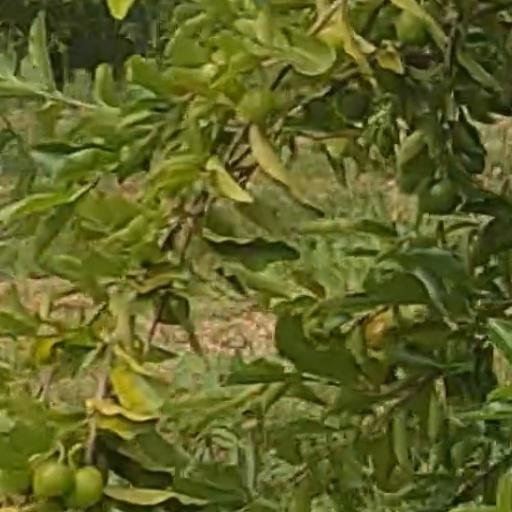acerola_verde: (417, 177, 457, 215), (35, 464, 74, 501), (76, 467, 102, 510)
